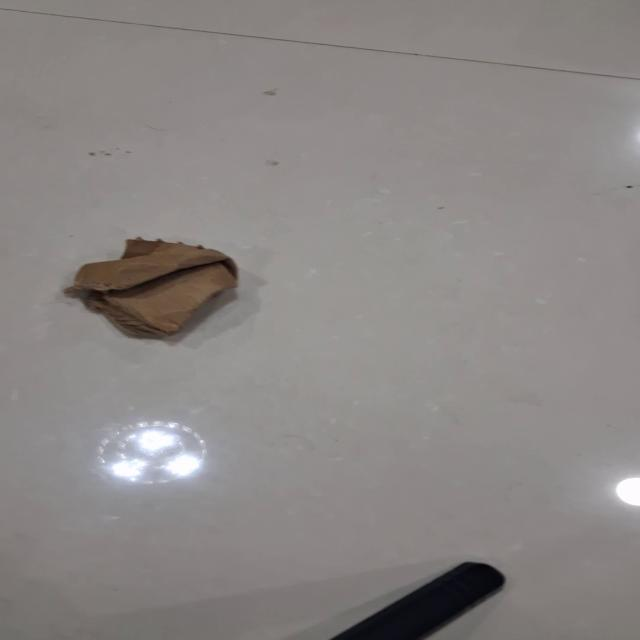paper: (66, 236, 240, 339)
